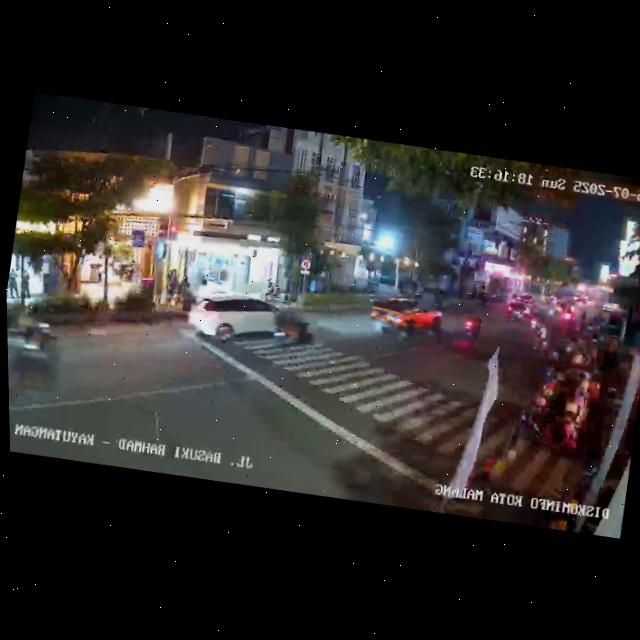car: (185, 284, 284, 352), (7, 304, 64, 400), (364, 291, 445, 346), (505, 296, 537, 324)
motorcycle: (268, 303, 320, 354), (529, 323, 555, 357), (461, 311, 485, 343)
person: (165, 268, 182, 302), (6, 268, 22, 300), (20, 273, 34, 300)
